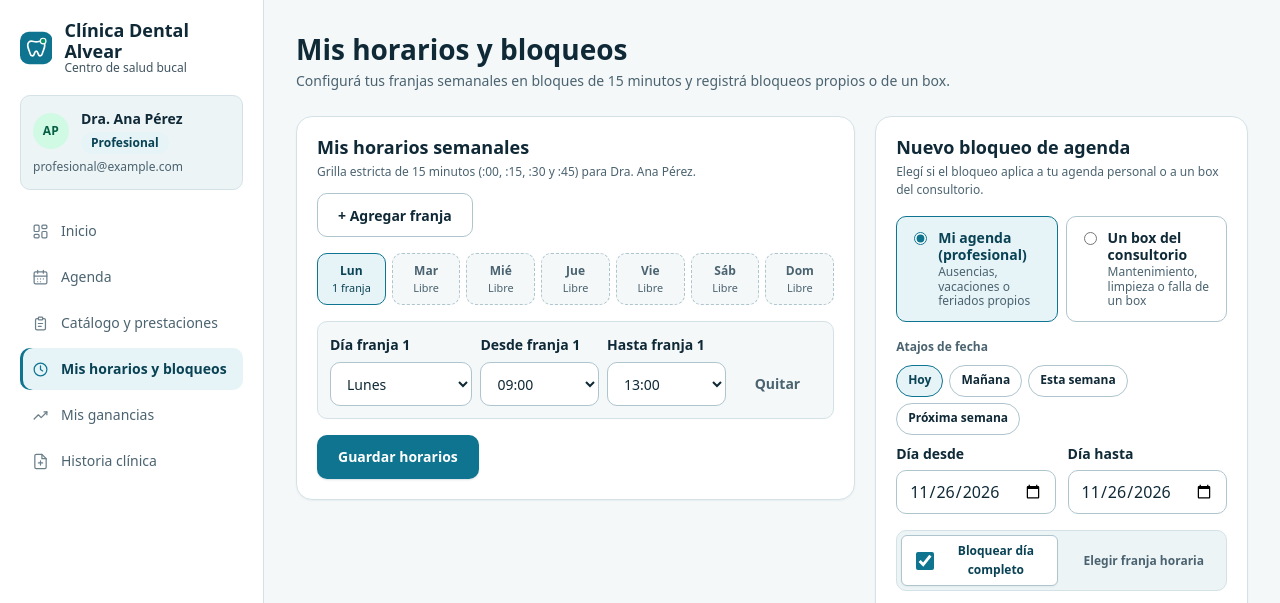
Horarios propios y bloqueos de agenda en grilla de 15 minutos › Guardado de horarios propios vía POST /api/profesionales/:id/horarios
Expected: the dropdown labelled "Desde franja 1" is shown, 480,362 -> 599,406
Click the button "Guardar horarios".
click(398, 457)  # box 317,435 -> 479,479
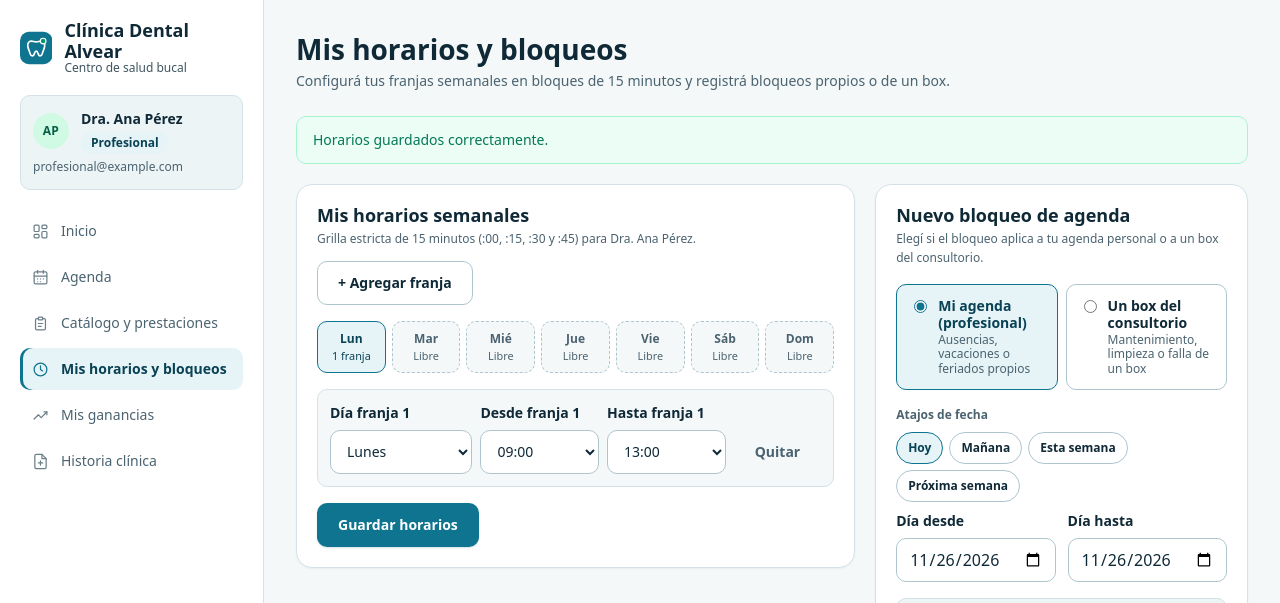
Result: the message shows "Horarios guardados" at 313,130 -> 548,149
